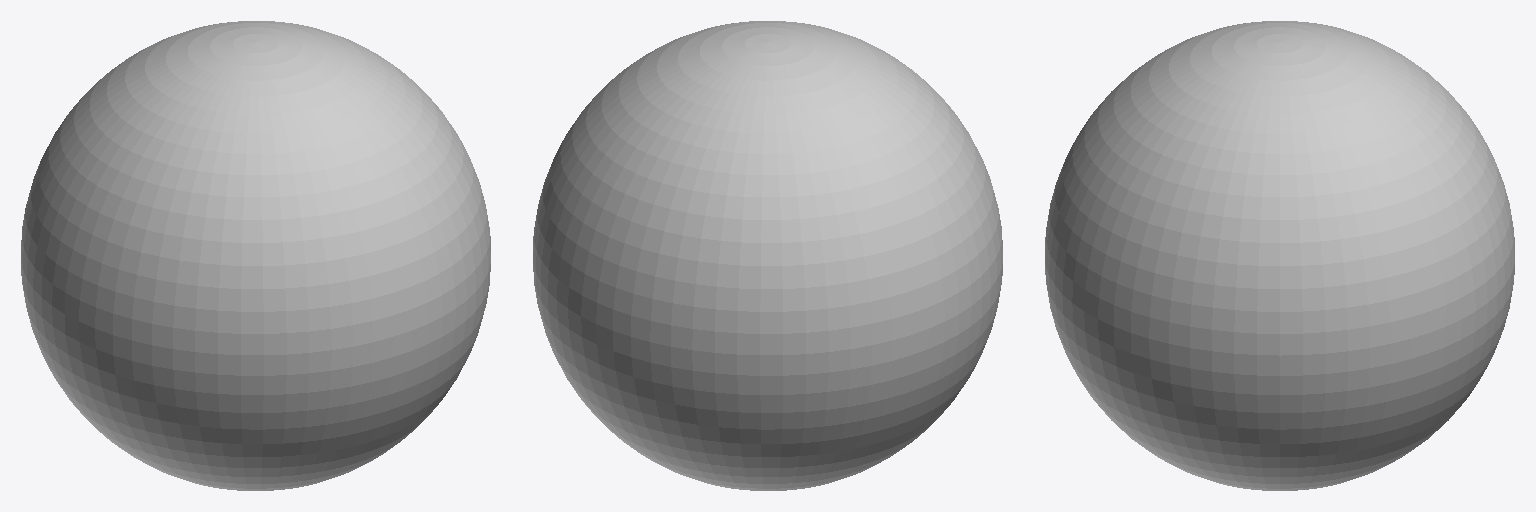
Rendered from sphere-uv-mapped.obj.
3 views of the same model, side by side, from view 1: azimuth 30°, elevation 25°; view 2: azimuth 150°, elevation 25°; view 3: azimuth 270°, elevation 25° (orthographic).
Parts seen in each view (by area): view 1: Sphere; view 2: Sphere; view 3: Sphere.
Boxes of the visible parts, <box> form: Sphere: <box>21,21,490,490</box>; Sphere: <box>533,21,1002,490</box>; Sphere: <box>1045,21,1514,490</box>.
Bounding box in the file's own units: 7 × 7 × 7.